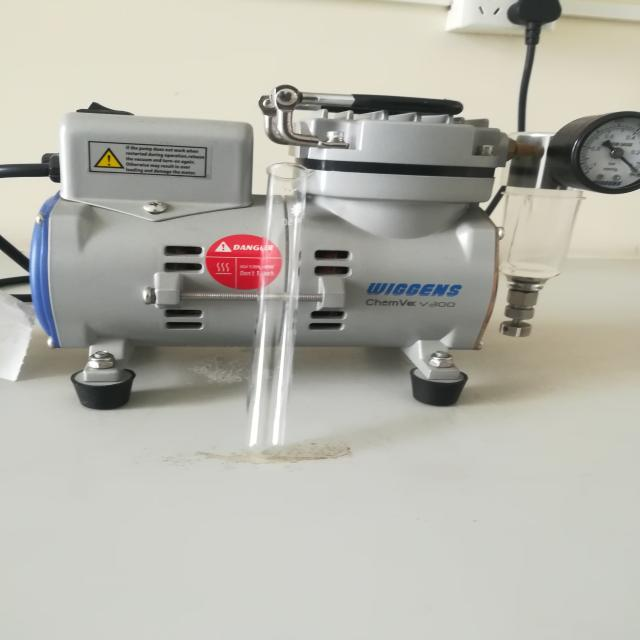Test_Tube: (218, 136, 344, 485)
